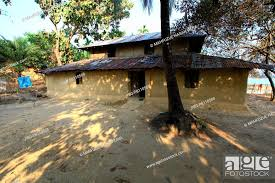Mud House: (41, 31, 267, 122)
